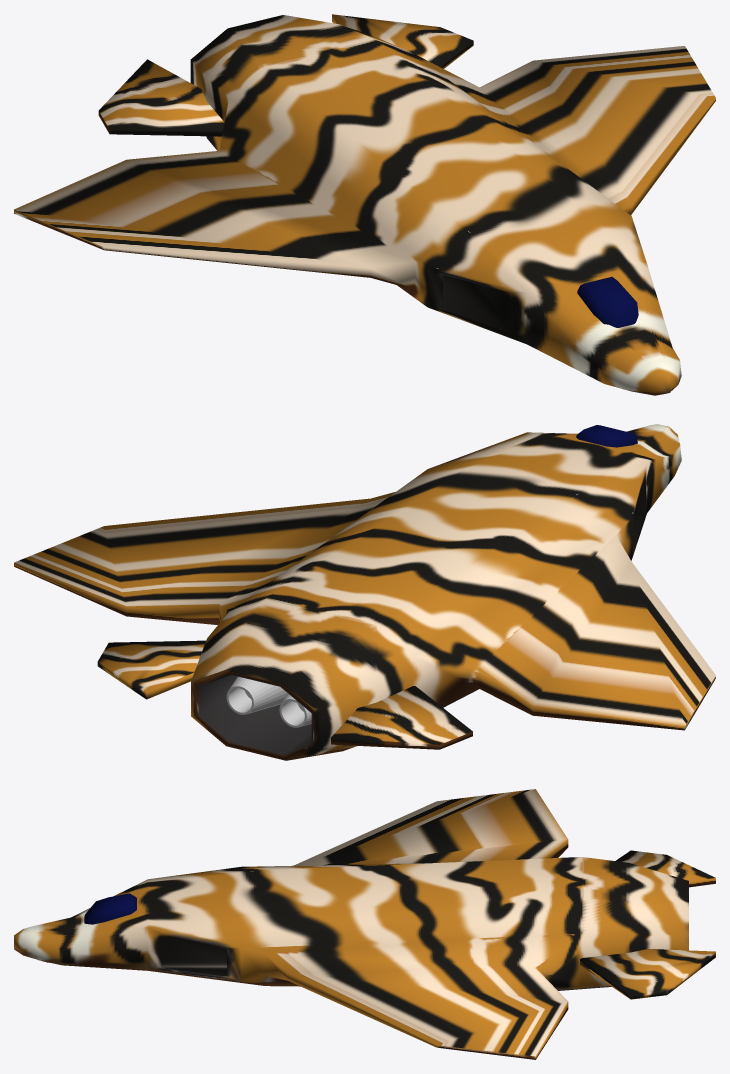
Rendered from jetfighter.obj.
3 renders of one model, top to bottom at view 1: azimuth 30°, elevation 25°; view 2: azimuth 150°, elevation 25°; view 3: azimuth 270°, elevation 25°, orthographic. The views are drawn at different scales.
Parts seen in each view (by area): view 1: Hull_Cube, RightSteering_Cube.002, LeftSteering_Cube.003, Window_Cube.001; view 2: Hull_Cube, RightSteering_Cube.002, LeftSteering_Cube.003, LeftEngine_Cylinder, Window_Cube.001, RightEngine_Cylinder.001; view 3: Hull_Cube, LeftSteering_Cube.003, RightSteering_Cube.002, Window_Cube.001.
Part boxes in pixels (left/top/right/bottom): Hull_Cube: left=14, top=15, right=715, bottom=395; RightSteering_Cube.002: left=98, top=59, right=224, bottom=136; LeftSteering_Cube.003: left=332, top=14, right=473, bottom=68; Window_Cube.001: left=577, top=276, right=638, bottom=327; Hull_Cube: left=14, top=424, right=715, bottom=760; RightSteering_Cube.002: left=331, top=686, right=472, bottom=749; LeftSteering_Cube.003: left=97, top=640, right=205, bottom=699; LeftEngine_Cylinder: left=226, top=676, right=287, bottom=714; Window_Cube.001: left=576, top=425, right=637, bottom=447; RightEngine_Cylinder.001: left=279, top=693, right=311, bottom=727; Hull_Cube: left=14, top=789, right=688, bottom=1059; LeftSteering_Cube.003: left=580, top=949, right=715, bottom=999; RightSteering_Cube.002: left=616, top=850, right=715, bottom=887; Window_Cube.001: left=84, top=893, right=136, bottom=924.
Bounding box in the file's own units: 4.11 × 0.6443 × 4.56.
Materials: 5 (4 with a texture image).
